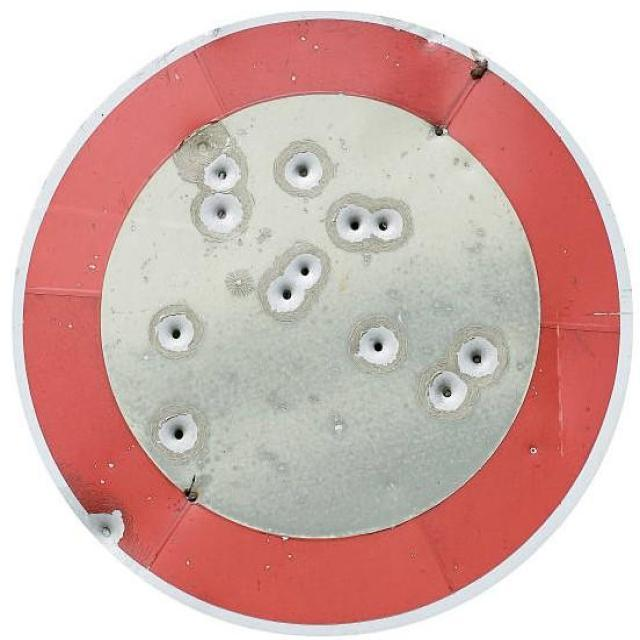obstructed_road_sign: (15, 15, 631, 631)
